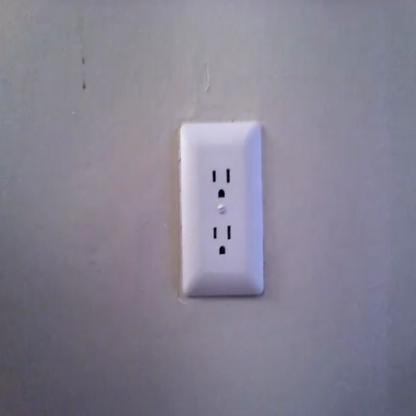OUTLET: (179, 122, 264, 300)
